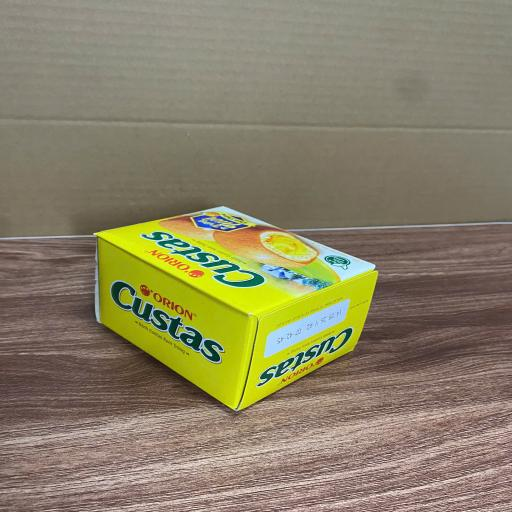custas: (94, 206, 378, 412)
